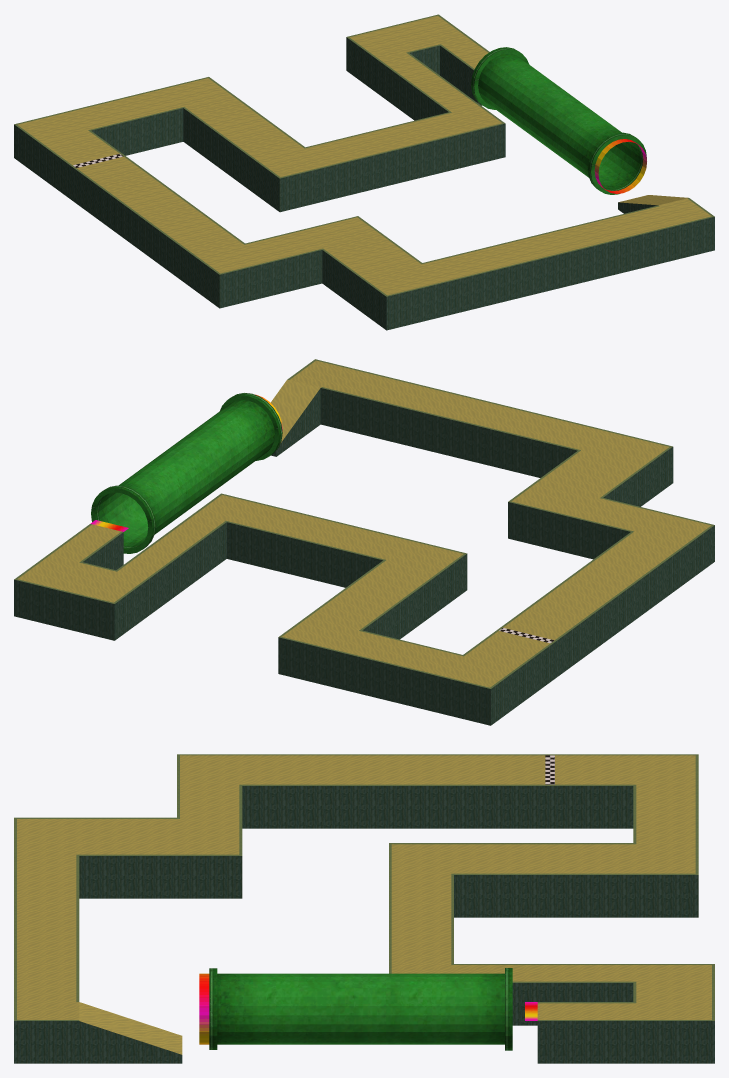
3 views of the same model, one above another, from view 1: azimuth 30°, elevation 25°; view 2: azimuth 150°, elevation 25°; view 3: azimuth 270°, elevation 25° (orthographic). The views are drawn at different scales.
Visible parts, largest first — view 1: amd_SKP__rock, amd_SKP__sand, amd_SKP__pipe, amd_SKP__grass, amd_SKP__ramp; view 2: amd_SKP__rock, amd_SKP__sand, amd_SKP__pipe, amd_SKP__grass; view 3: amd_SKP__sand, amd_SKP__rock, amd_SKP__pipe, amd_SKP__grass, amd_SKP__ramp.
Part boxes in pixels (bbox=[...]): amd_SKP__rock: bbox=[14, 37, 714, 330]; amd_SKP__sand: bbox=[17, 16, 711, 295]; amd_SKP__pipe: bbox=[471, 47, 646, 194]; amd_SKP__grass: bbox=[14, 14, 714, 296]; amd_SKP__ramp: bbox=[594, 139, 646, 193]; amd_SKP__rock: bbox=[14, 388, 714, 725]; amd_SKP__sand: bbox=[17, 360, 711, 687]; amd_SKP__pipe: bbox=[91, 393, 282, 553]; amd_SKP__grass: bbox=[14, 359, 714, 688]; amd_SKP__sand: bbox=[17, 755, 711, 1054]; amd_SKP__rock: bbox=[14, 786, 714, 1063]; amd_SKP__pipe: bbox=[209, 968, 512, 1050]; amd_SKP__grass: bbox=[14, 754, 714, 1020]; amd_SKP__ramp: bbox=[199, 973, 537, 1044].
Size of what is drawn, in the model's own units: 59568 by 8180 by 64751.
Materials: 7 (6 with a texture image).
